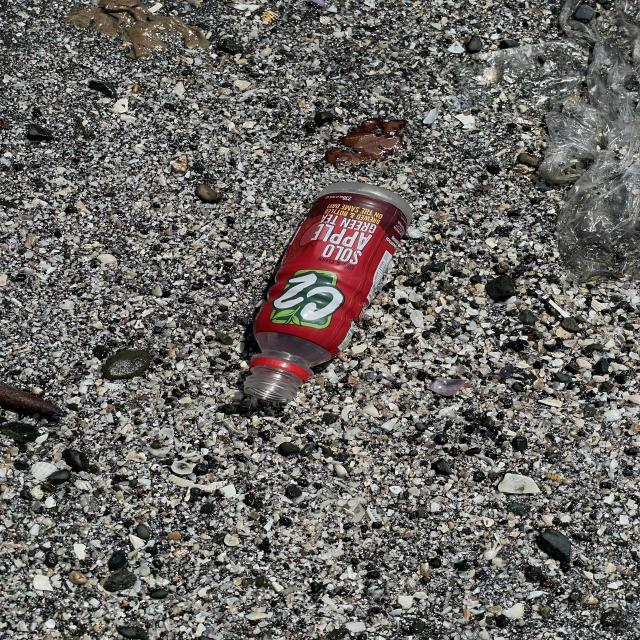litter: (245, 182, 410, 399)
